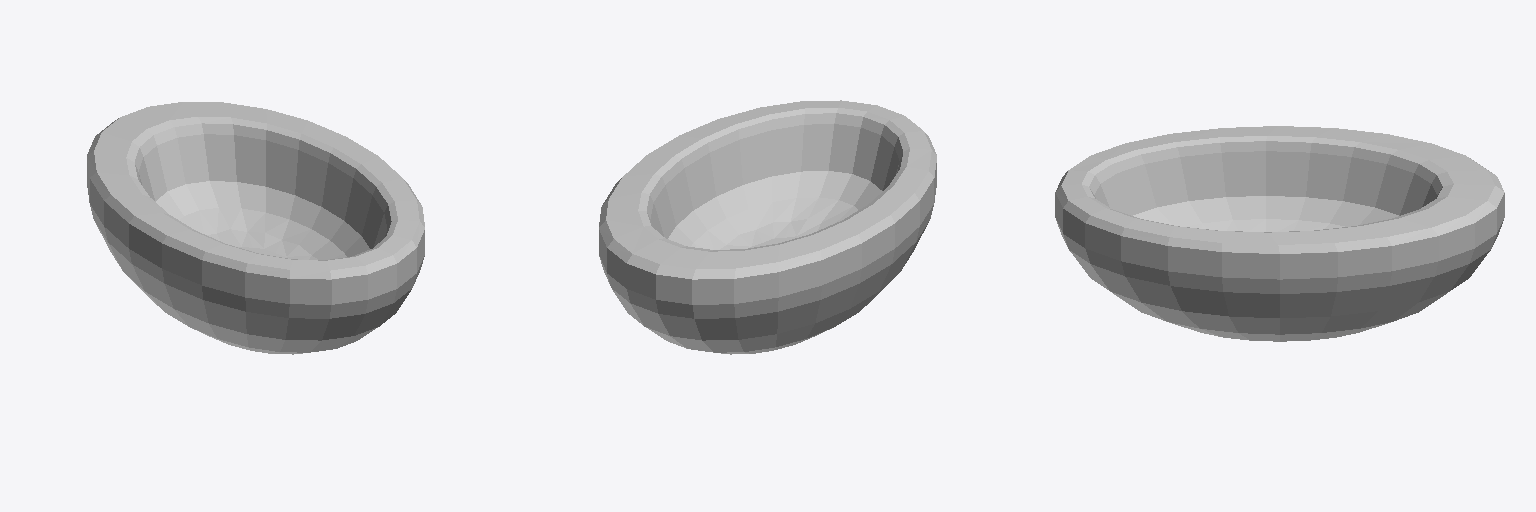
Rendered from toilet_bowl_2.obj.
3 views of the same model, side by side, from view 1: azimuth 30°, elevation 25°; view 2: azimuth 150°, elevation 25°; view 3: azimuth 270°, elevation 25° (orthographic).
Size of the model in its own units: 6.63 by 3.58 by 10.14.